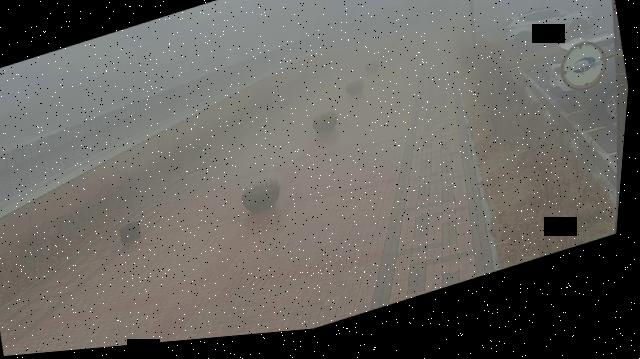bag: (121, 222, 149, 249)
